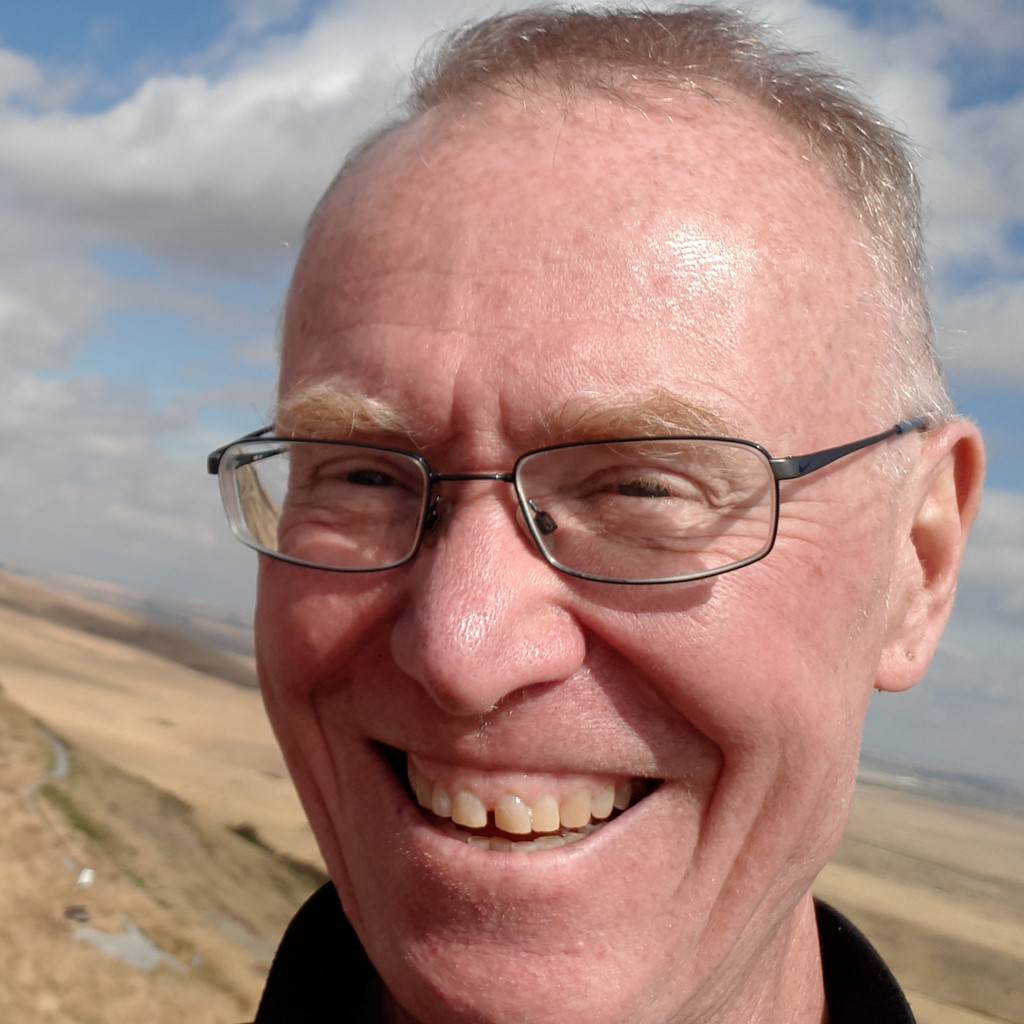sin_mascara: (274, 99, 880, 1024)
